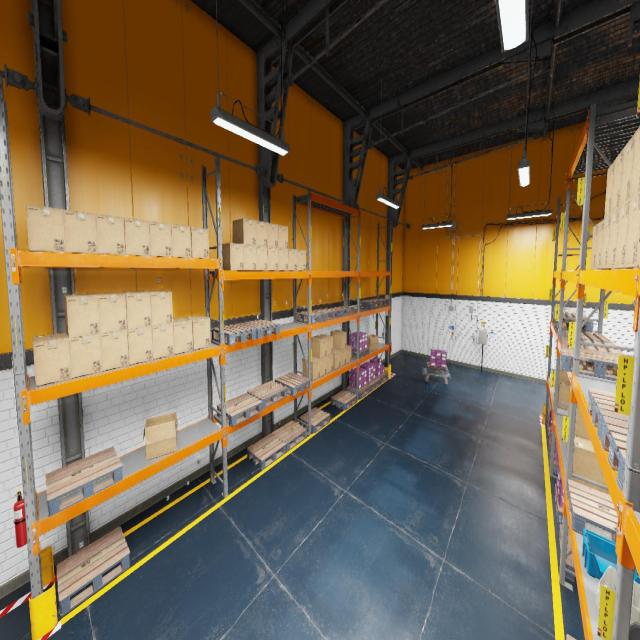box: (572, 435, 610, 495), (33, 332, 71, 387), (26, 205, 66, 252), (143, 412, 178, 460), (64, 294, 100, 338), (64, 209, 98, 254), (69, 334, 102, 378), (93, 292, 127, 334), (100, 330, 129, 371), (96, 214, 125, 255), (120, 291, 151, 329), (625, 194, 640, 268), (143, 290, 173, 326), (620, 133, 634, 208), (124, 217, 150, 256), (127, 326, 153, 364), (616, 201, 630, 268), (184, 315, 210, 350), (611, 147, 624, 214), (149, 221, 172, 257), (152, 324, 174, 359), (630, 127, 640, 200), (608, 208, 620, 268), (173, 318, 193, 354), (171, 224, 191, 257), (604, 160, 615, 219), (232, 218, 256, 245), (574, 402, 590, 440), (222, 243, 244, 270), (191, 226, 209, 258), (600, 214, 610, 268), (595, 219, 604, 269), (302, 356, 320, 381), (590, 223, 598, 269), (311, 336, 327, 359), (316, 334, 332, 356), (558, 380, 570, 409), (331, 330, 346, 350), (244, 245, 256, 270), (256, 220, 267, 247), (256, 246, 268, 270), (294, 249, 306, 271), (267, 223, 278, 247), (268, 247, 278, 270), (278, 225, 288, 248), (288, 248, 298, 270), (278, 248, 288, 270), (559, 361, 569, 381), (335, 348, 346, 366), (368, 334, 378, 351), (333, 349, 341, 369), (320, 356, 327, 376), (346, 345, 352, 364), (327, 354, 333, 373), (637, 230, 640, 265), (568, 387, 570, 417), (566, 442, 567, 452)
pallets: (56, 526, 130, 617), (46, 447, 122, 516), (566, 480, 618, 542), (560, 346, 633, 380), (588, 388, 628, 440), (601, 416, 628, 490), (561, 337, 623, 366), (217, 393, 262, 427), (247, 434, 286, 469), (247, 381, 287, 409), (272, 420, 307, 451), (212, 323, 256, 345), (559, 524, 575, 582), (274, 372, 310, 396), (565, 330, 612, 347), (300, 407, 330, 433), (239, 320, 280, 338), (553, 315, 594, 332), (331, 390, 357, 410), (551, 312, 587, 324), (297, 310, 327, 324), (554, 484, 563, 524), (346, 384, 371, 398), (312, 308, 341, 320), (427, 362, 448, 375), (550, 446, 559, 475), (331, 306, 354, 316), (352, 348, 369, 358), (368, 298, 389, 306), (360, 300, 380, 308), (367, 378, 380, 390), (376, 372, 388, 384), (547, 418, 550, 438), (566, 634, 576, 639), (549, 431, 551, 454)
